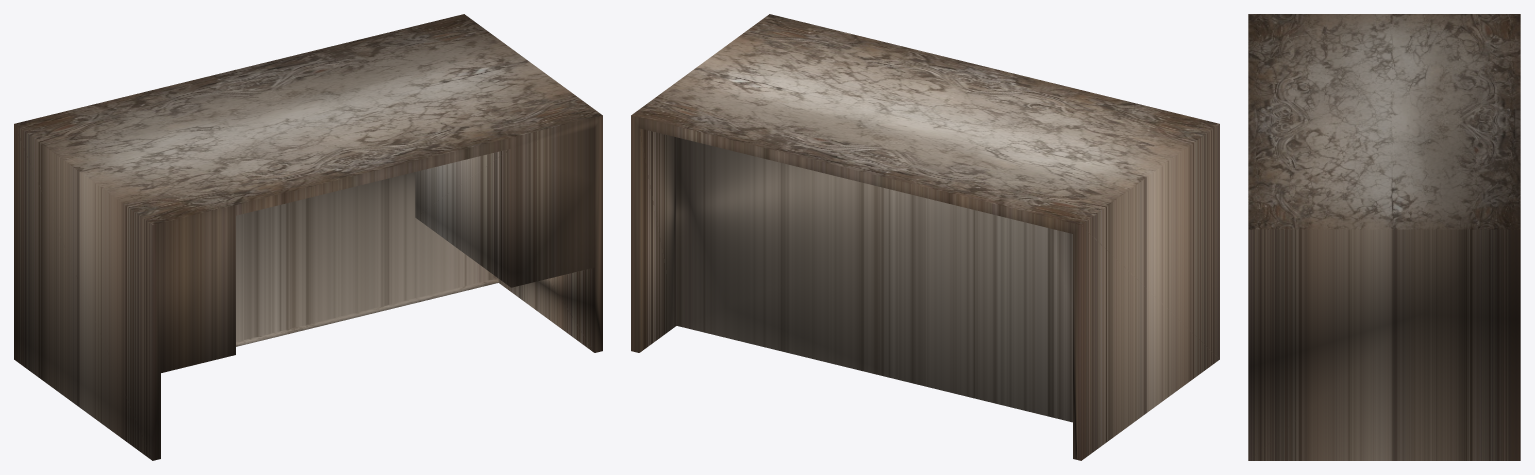
Rendered from table_11_21__09_14_36_textured.obj.
3 views of the same model, side by side, from view 1: azimuth 30°, elevation 25°; view 2: azimuth 150°, elevation 25°; view 3: azimuth 270°, elevation 25° (orthographic).
Bounding box in the file's own units: 1.5 × 0.75 × 0.8.
1 material, 1 textured.
